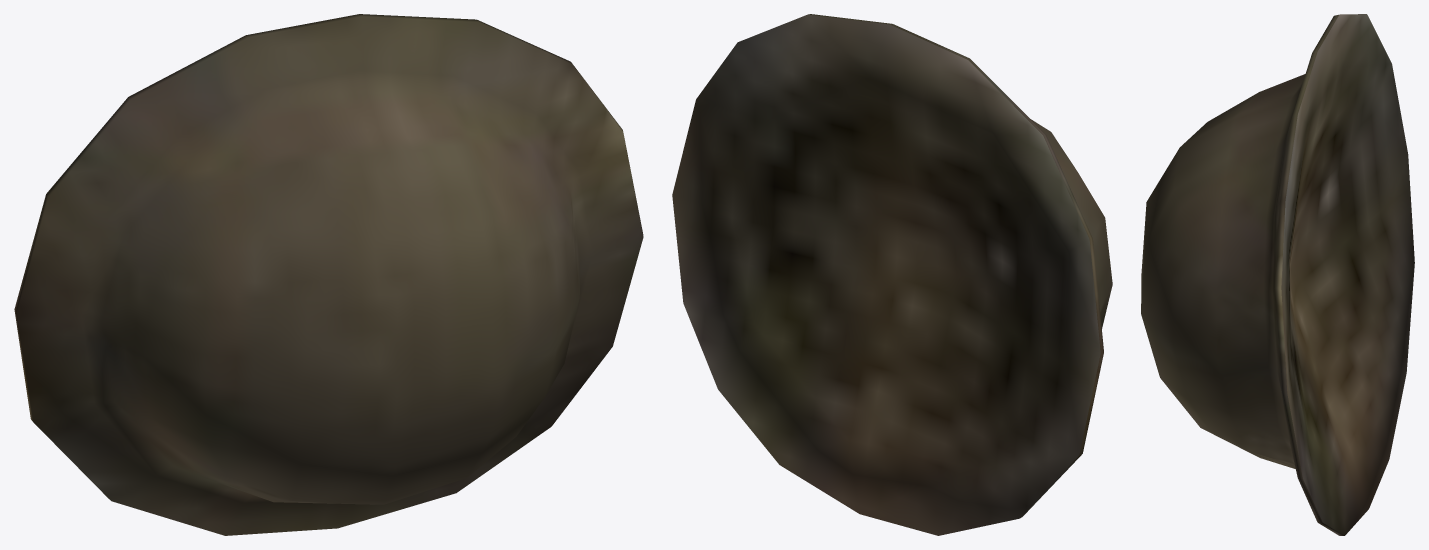
Rendered from helmet_british_normandy_b.glb.
The picture shows the model from 3 angles, left to right: view 1: azimuth 30°, elevation 25°; view 2: azimuth 150°, elevation 25°; view 3: azimuth 270°, elevation 25°; orthographic projection. The views are drawn at different scales.
Size of the model in its own units: 12.93 by 11.84 by 6.44.
1 material, 1 textured.
